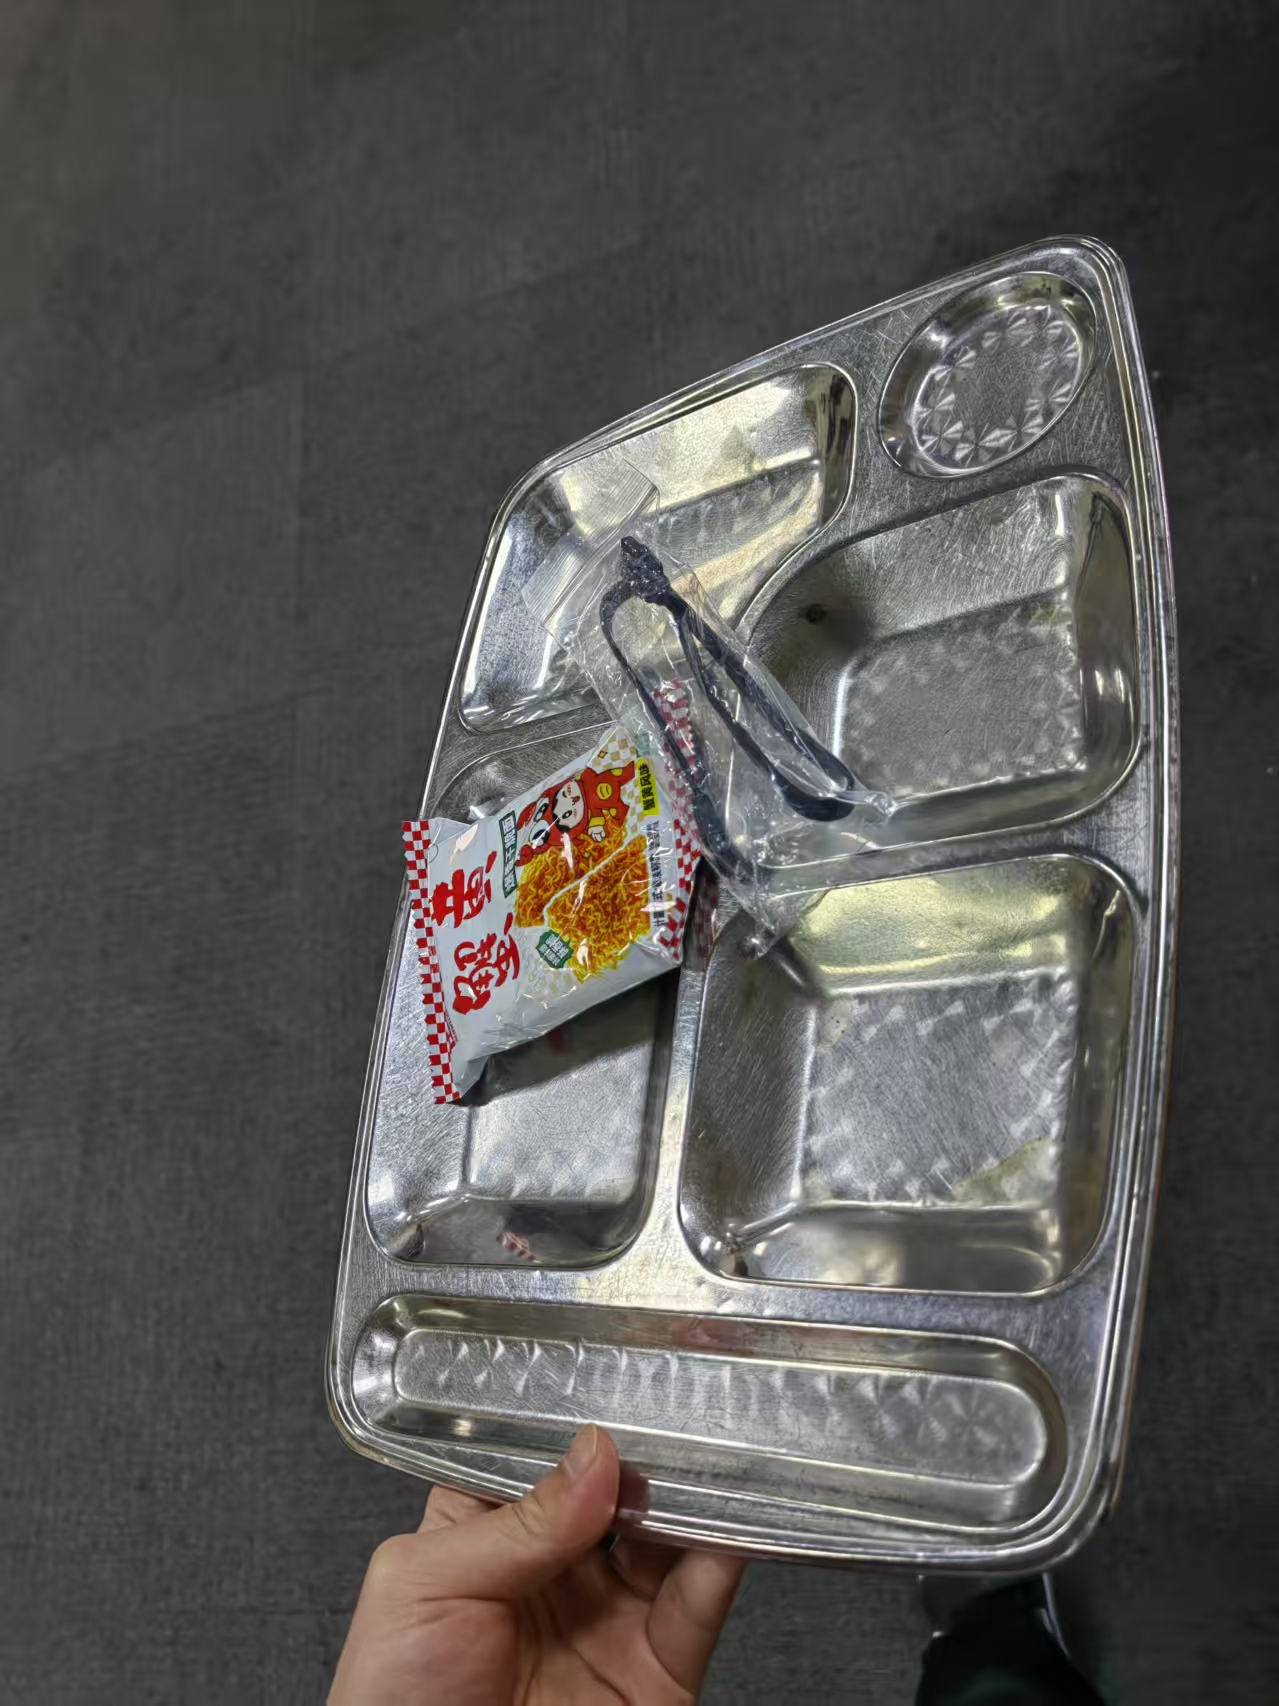mild: (400, 523, 867, 1098)
plate: (323, 229, 1187, 1580)
